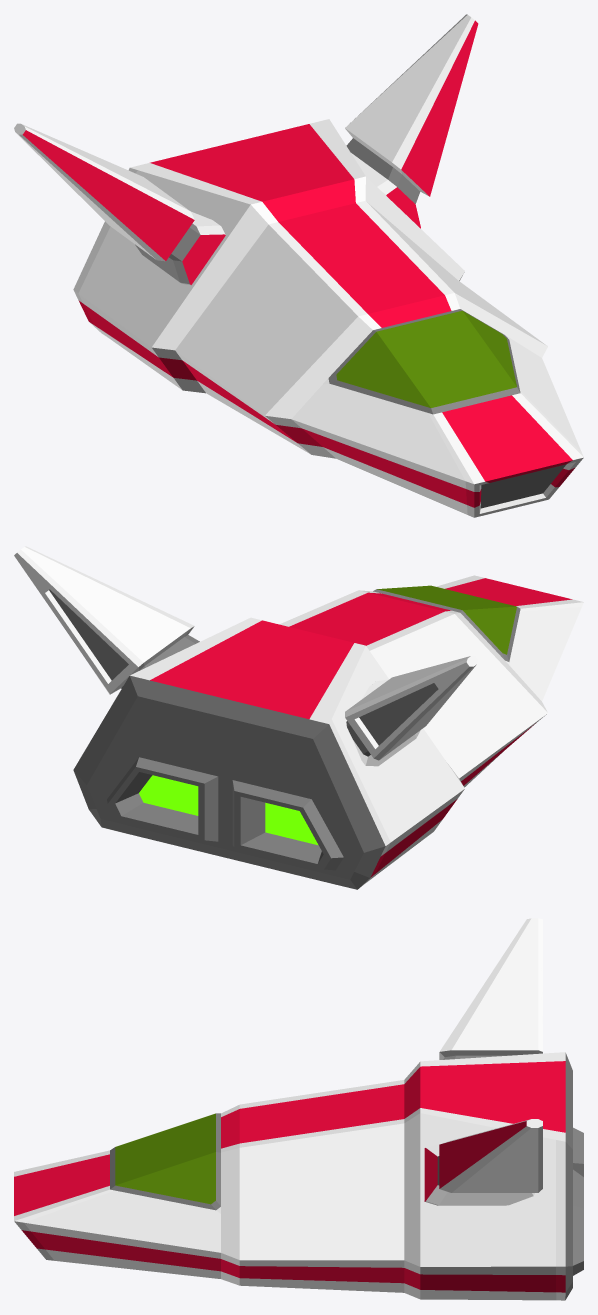
Rendered from Low_Poly_Spaceship_003.fbx.
The picture shows the model from 3 angles, top to bottom: view 1: azimuth 30°, elevation 25°; view 2: azimuth 150°, elevation 25°; view 3: azimuth 270°, elevation 25°; orthographic projection. The views are drawn at different scales.
Visible parts, largest first — view 1: Low_Poly_Spaceship_003; view 2: Low_Poly_Spaceship_003; view 3: Low_Poly_Spaceship_003.
Part boxes in pixels (x1,y1,x2,y2): Low_Poly_Spaceship_003: (14,14,583,517); Low_Poly_Spaceship_003: (14,546,583,889); Low_Poly_Spaceship_003: (14,918,583,1300).
Size of the model in its own units: 302 by 155 by 353.
